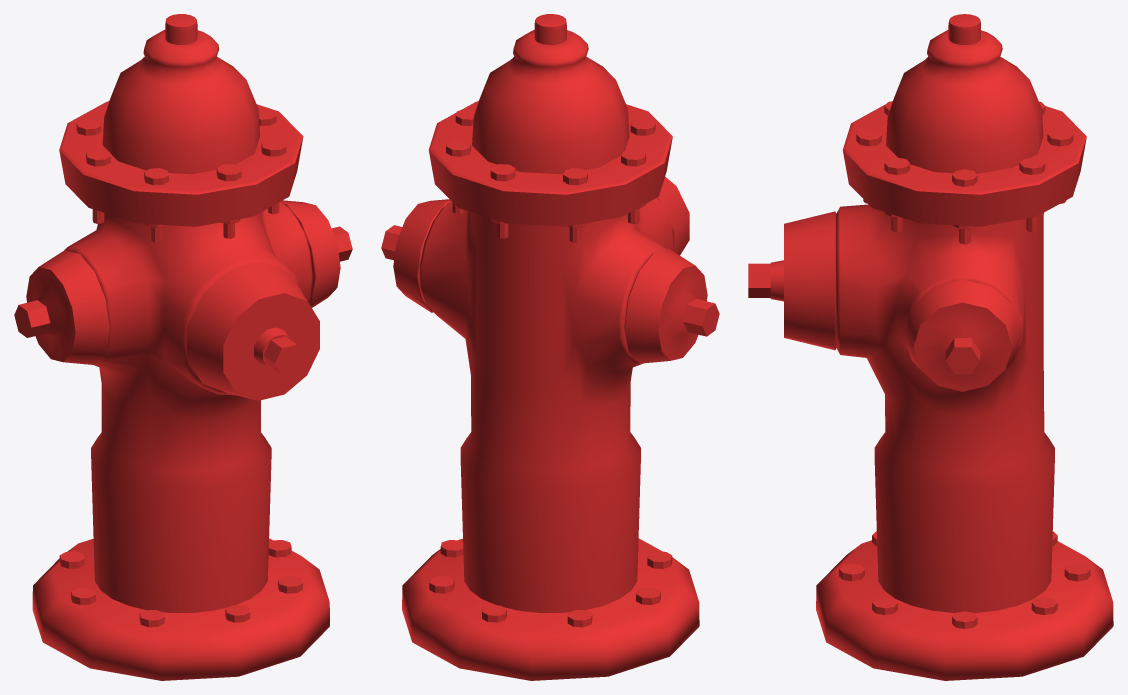
The model's file is water.fbx.
3 views of the same model, side by side, from view 1: azimuth 30°, elevation 25°; view 2: azimuth 150°, elevation 25°; view 3: azimuth 270°, elevation 25° (orthographic).
Visible parts, largest first — view 1: water; view 2: water; view 3: water.
Boxes of the visible parts, <box> form: water: <box>14,14,352,680</box>; water: <box>381,14,719,680</box>; water: <box>748,14,1113,680</box>.
Size of the model in its own units: 41.05 by 73.17 by 40.4.
